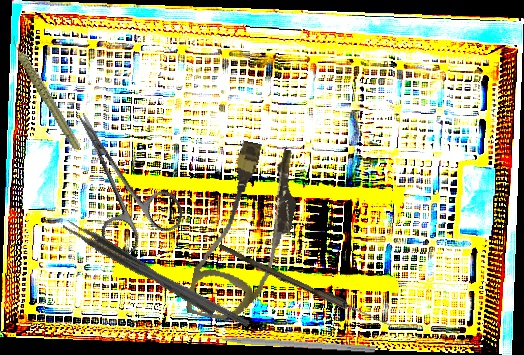Cannula: (185, 136, 307, 330)
Chopper: (197, 324, 377, 354)
Handpiece: (10, 26, 82, 158)
Hook Surgical: (106, 245, 251, 328)
Iris Scissors: (46, 93, 189, 261)
Surgical Spoon: (216, 243, 394, 330)
Tissue Forceps: (61, 216, 217, 321)
